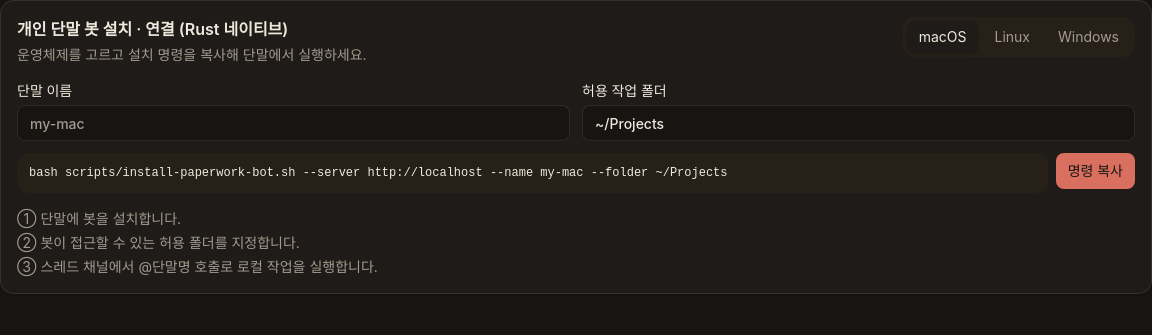
Test case: EndpointBotPairingCard › shows each OS command and its default name while switching tabs
Click the button with aria-label "Linux".
click(1012, 37)  # box [982,21,1042,53]
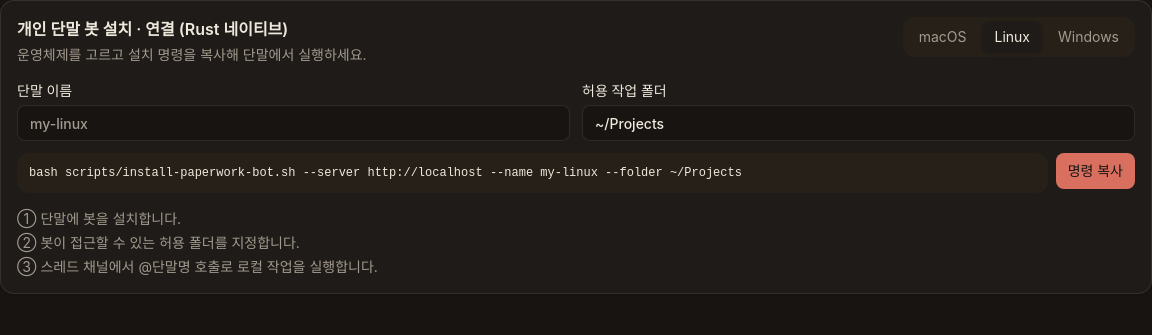
Click the button with aria-label "Windows".
click(1088, 37)  # box [1046,21,1131,53]
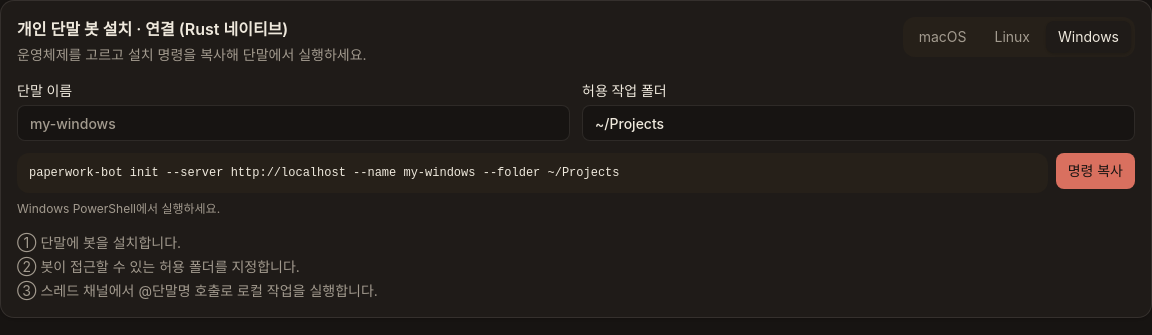
Check: the text "Windows PowerShell" is shown, box [17,201,220,216]
